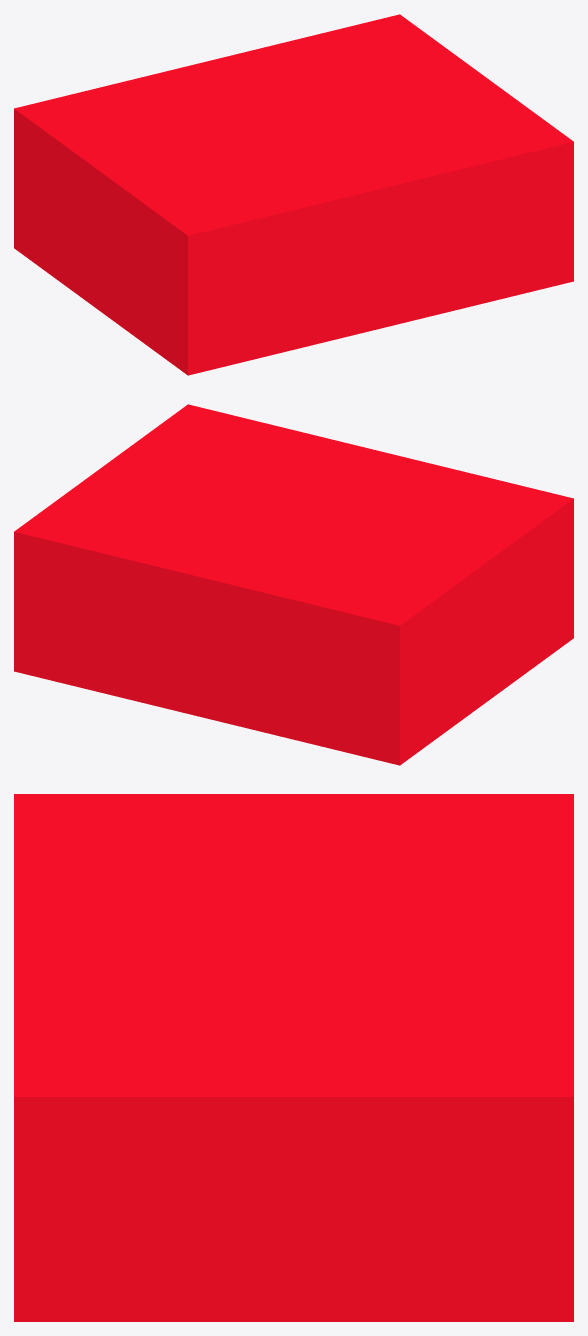
Rendered from cubotest-2.glb.
The picture shows the model from 3 angles, top to bottom: view 1: azimuth 30°, elevation 25°; view 2: azimuth 150°, elevation 25°; view 3: azimuth 270°, elevation 25°; orthographic projection. The views are drawn at different scales.
Parts seen in each view (by area): view 1: Cube; view 2: Cube; view 3: Cube.
Part boxes in pixels (<box>): Cube: <box>14,14,573,375</box>; Cube: <box>14,404,573,765</box>; Cube: <box>14,794,573,1321</box>.
Size of the model in its own units: 0.1123 by 0.0389 by 0.0877.
